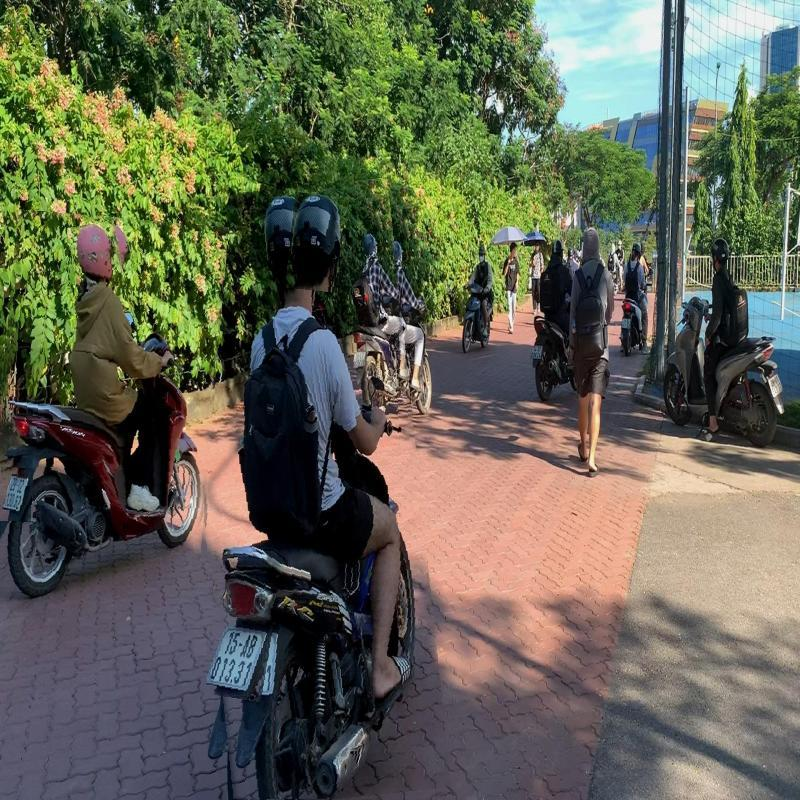helmet: (288, 194, 347, 292), (70, 222, 123, 292)
licenseplate: (204, 616, 270, 700), (0, 467, 32, 521)
motorcyclist: (187, 182, 436, 800), (0, 213, 220, 621)
